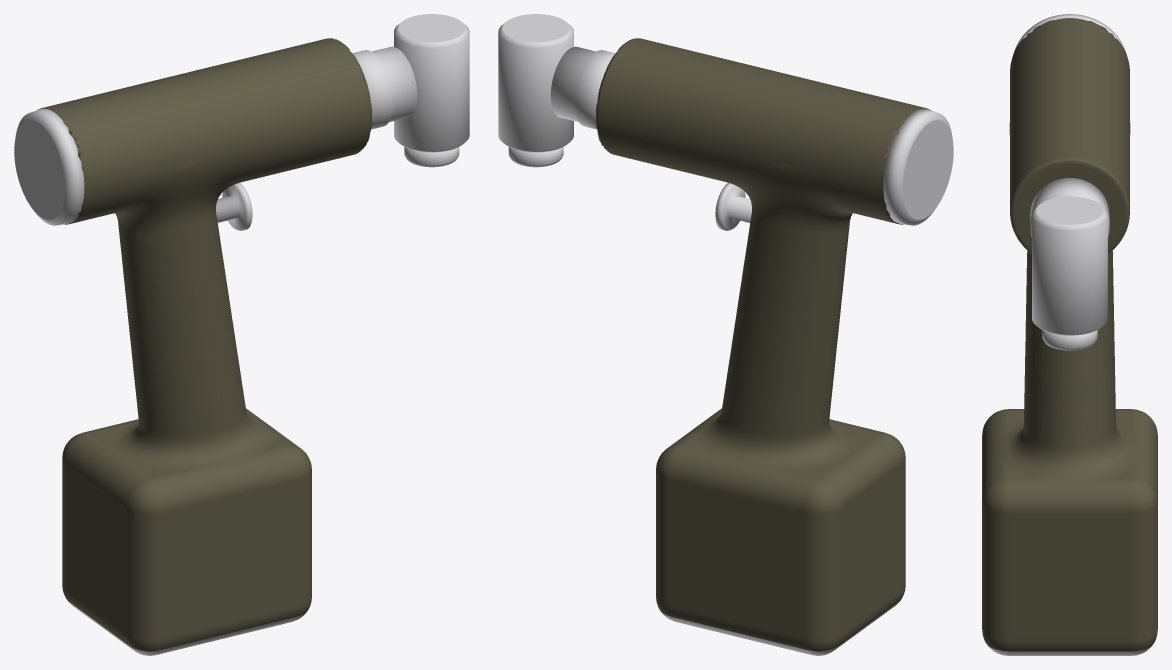
File: saw-oscillating.glb
3 renders of one model, left to right at view 1: azimuth 30°, elevation 25°; view 2: azimuth 150°, elevation 25°; view 3: azimuth 270°, elevation 25°, orthographic.
Visible parts, largest first — view 1: body, saw_head, rear, nose, trigger, blade_hub; view 2: body, saw_head, rear, nose, trigger, blade_hub; view 3: body, saw_head, nose, blade_hub, rear.
Part boxes in pixels (bbox=[...]): body: bbox=[37, 38, 371, 655]; saw_head: bbox=[394, 14, 469, 152]; rear: bbox=[14, 108, 84, 225]; nose: bbox=[352, 46, 417, 129]; trigger: bbox=[216, 182, 252, 230]; blade_hub: bbox=[404, 147, 459, 167]; body: bbox=[596, 38, 930, 655]; saw_head: bbox=[498, 14, 573, 152]; rear: bbox=[883, 109, 953, 225]; nose: bbox=[550, 46, 615, 129]; trigger: bbox=[715, 182, 751, 230]; blade_hub: bbox=[508, 147, 563, 167]; body: bbox=[982, 18, 1157, 655]; saw_head: bbox=[1032, 196, 1107, 335]; nose: bbox=[1030, 178, 1109, 237]; blade_hub: bbox=[1042, 330, 1097, 350]; rear: bbox=[1014, 14, 1125, 51].
Bounding box in the file's own units: 0.1684 × 0.2023 × 0.06.
